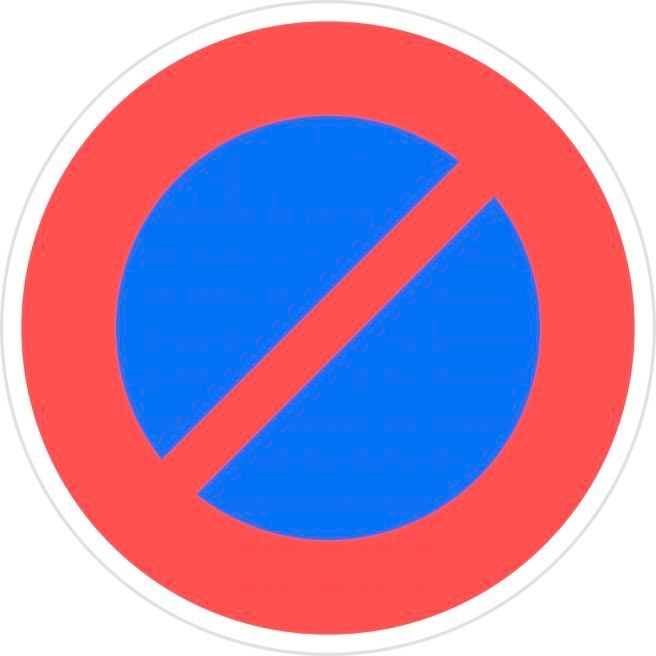Prohibition_sign: (12, 9, 645, 656)
